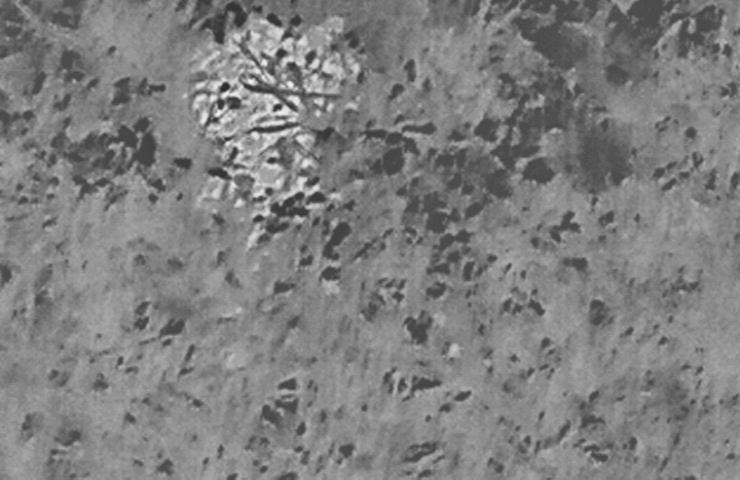landmines: (197, 16, 369, 204)
